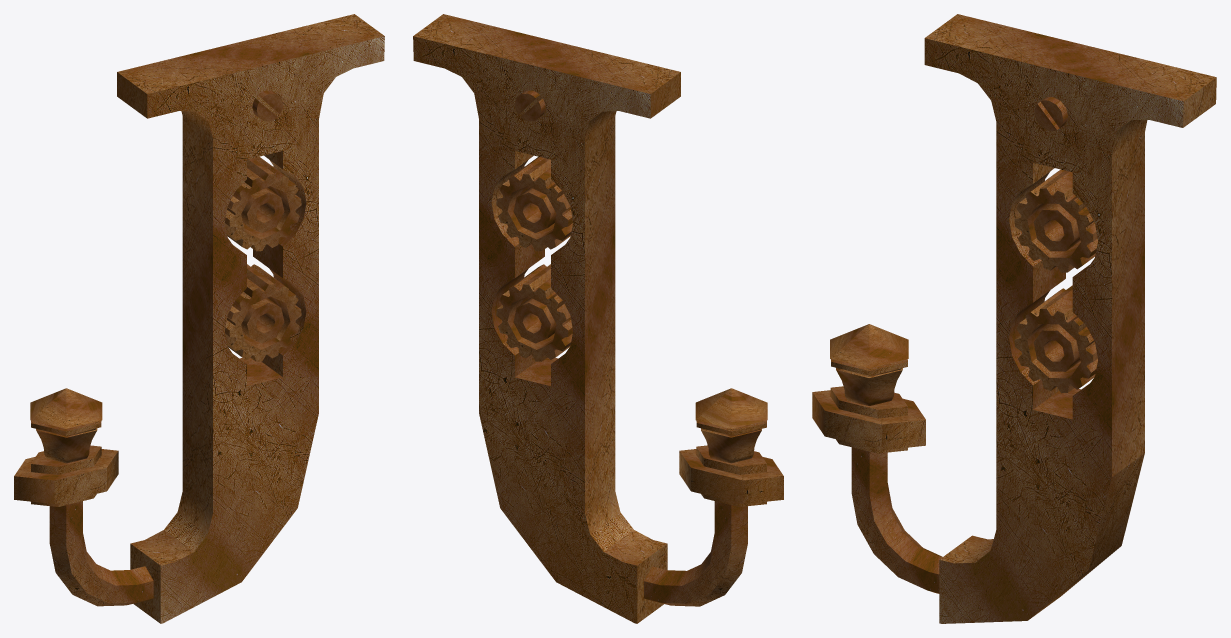
3 views of the same model, side by side, from view 1: azimuth 30°, elevation 25°; view 2: azimuth 150°, elevation 25°; view 3: azimuth 330°, elevation 25° (orthographic). The views are drawn at different scales.
Parts seen in each view (by area): view 1: Line003, Line010, Cogwheel_420, Cogwheel_419, J, Tube_477, Tube_468, Screw_859, Tube_480; view 2: Line003, Line010, Cogwheel_420, Cogwheel_419, J, Tube_477, Tube_468, Screw_859, Tube_480; view 3: Line003, Line010, Cogwheel_420, Cogwheel_419, J, Tube_477, Tube_468, Screw_859, Tube_480.
Boxes of the visible parts, x1=… form: Line003: x1=117, y1=14, x2=384, y2=623; Line010: x1=49, y1=501, x2=153, y2=606; Cogwheel_420: x1=225, y1=264, x2=301, y2=361; Cogwheel_419: x1=225, y1=156, x2=301, y2=251; J: x1=30, y1=388, x2=102, y2=463; Tube_477: x1=14, y1=449, x2=118, y2=503; Tube_468: x1=31, y1=445, x2=101, y2=506; Screw_859: x1=252, y1=90, x2=283, y2=121; Tube_480: x1=31, y1=420, x2=101, y2=435; Line003: x1=413, y1=14, x2=680, y2=623; Line010: x1=644, y1=501, x2=747, y2=606; Cogwheel_420: x1=496, y1=264, x2=572, y2=361; Cogwheel_419: x1=496, y1=156, x2=572, y2=251; J: x1=695, y1=388, x2=767, y2=463; Tube_477: x1=679, y1=449, x2=783, y2=503; Tube_468: x1=696, y1=445, x2=766, y2=506; Screw_859: x1=514, y1=90, x2=545, y2=121; Tube_480: x1=696, y1=420, x2=766, y2=435; Line003: x1=924, y1=14, x2=1216, y2=623; Line010: x1=851, y1=447, x2=942, y2=593; Cogwheel_420: x1=1014, y1=285, x2=1097, y2=393; Cogwheel_419: x1=1014, y1=169, x2=1097, y2=272; J: x1=830, y1=324, x2=908, y2=405; Tube_477: x1=812, y1=390, x2=925, y2=450; Tube_468: x1=830, y1=386, x2=907, y2=453; Screw_859: x1=1034, y1=97, x2=1067, y2=131; Tube_480: x1=831, y1=359, x2=907, y2=375.
Size of the model in its own units: 67.79 by 97.09 by 12.89.
Materials: 1 (1 with a texture image).
